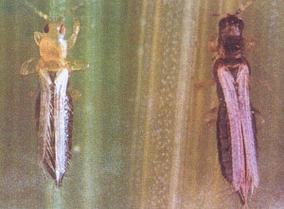Thripidae: (193, 2, 270, 207), (17, 1, 91, 190)
